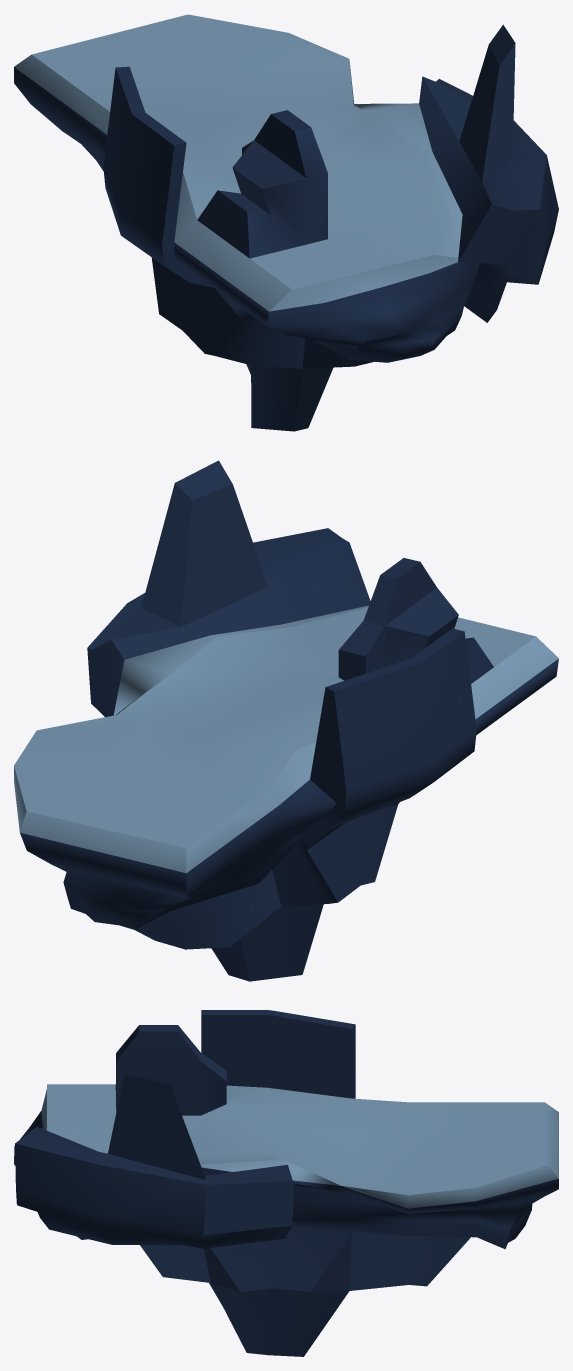
Rendered from Night_Island_Runway.fbx.
3 views of the same model, one above another, from view 1: azimuth 30°, elevation 25°; view 2: azimuth 150°, elevation 25°; view 3: azimuth 270°, elevation 25° (orthographic). The views are drawn at different scales.
Parts seen in each view (by area): view 1: pCube1; view 2: pCube1; view 3: pCube1.
Part boxes in pixels (bbox=[...]): pCube1: bbox=[14, 14, 558, 431]; pCube1: bbox=[14, 460, 558, 981]; pCube1: bbox=[14, 1010, 558, 1356].
Size of the model in its own units: 36.89 by 39.99 by 59.37.
